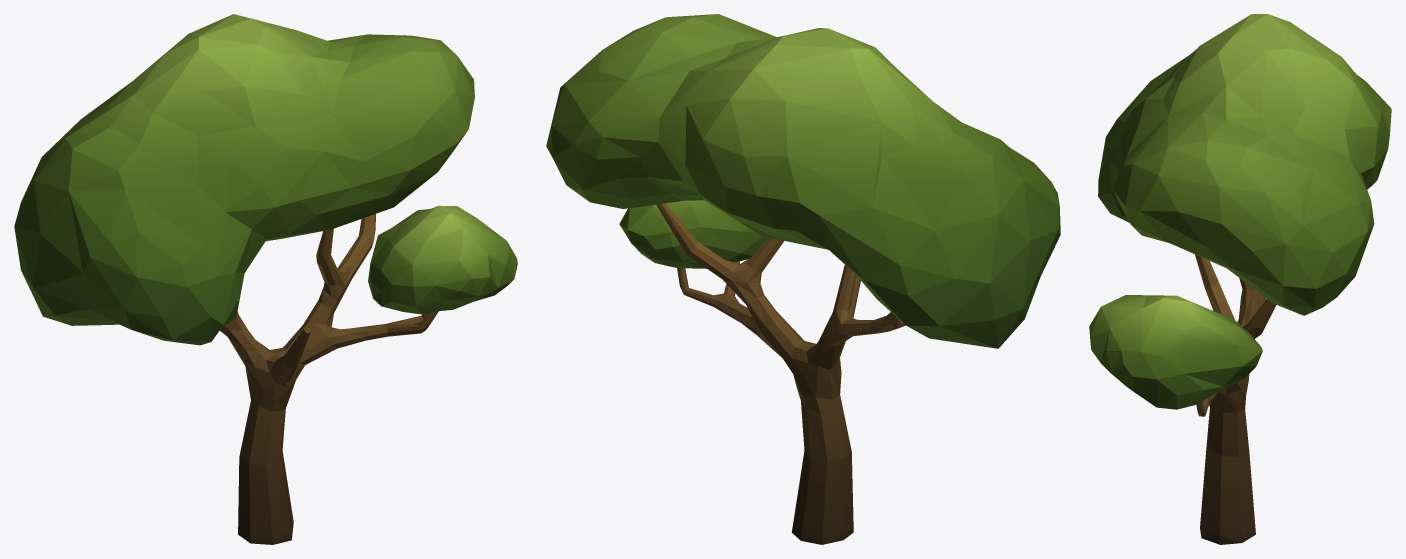
The model's file is Tree_05.obj.
3 renders of one model, left to right at view 1: azimuth 30°, elevation 25°; view 2: azimuth 150°, elevation 25°; view 3: azimuth 270°, elevation 25°, orthographic. The views are drawn at different scales.
Visible parts, largest first — view 1: Tree_05; view 2: Tree_05; view 3: Tree_05.
Part boxes in pixels (bbox=[...]): Tree_05: bbox=[14, 14, 517, 544]; Tree_05: bbox=[546, 14, 1060, 544]; Tree_05: bbox=[1089, 14, 1391, 544].
Size of the model in its own units: 5.42 by 5.8 by 3.19.
Materials: 1 (1 with a texture image).
